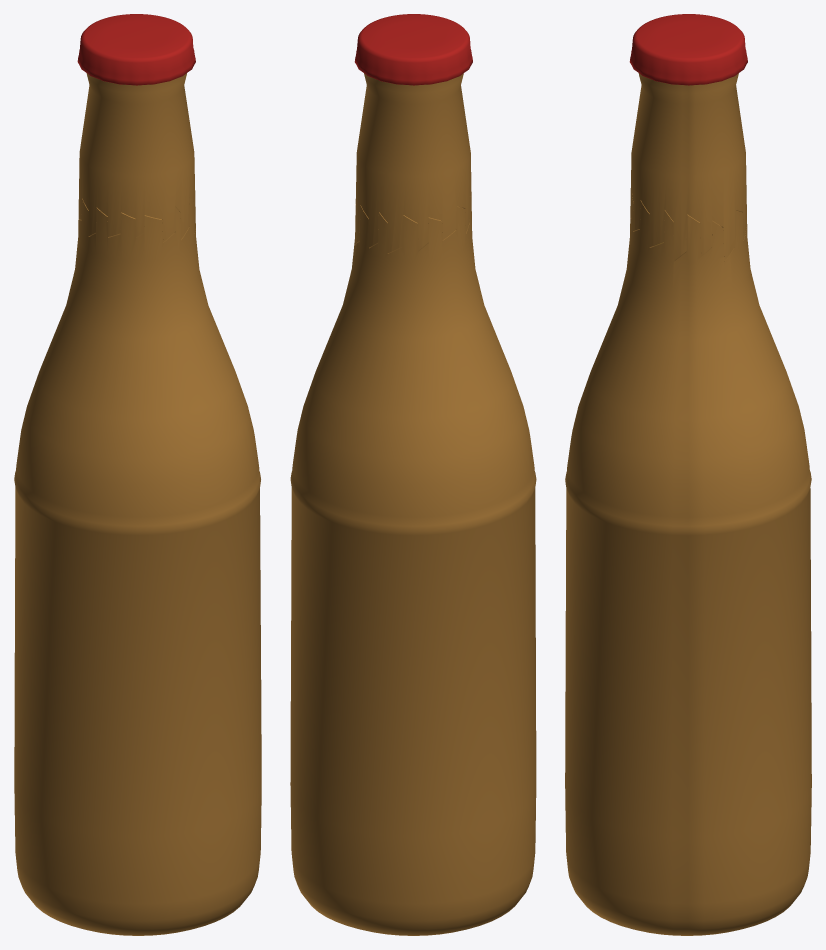
The model's file is bottle_longneck_broken.glb.
3 views of the same model, side by side, from view 1: azimuth 30°, elevation 25°; view 2: azimuth 150°, elevation 25°; view 3: azimuth 270°, elevation 25° (orthographic).
Visible parts, largest first — view 1: Glass.001, Neck, Cap; view 2: Glass.001, Neck, Cap; view 3: Glass.001, Neck, Cap.
Boxes of the visible parts, left/top/right/bottom form: Glass.001: left=14, top=198, right=261, bottom=935; Neck: left=78, top=73, right=195, bottom=241; Cap: left=77, top=14, right=195, bottom=85; Glass.001: left=290, top=196, right=536, bottom=935; Neck: left=355, top=73, right=471, bottom=252; Cap: left=354, top=14, right=472, bottom=85; Glass.001: left=565, top=194, right=811, bottom=935; Neck: left=630, top=73, right=746, bottom=261; Cap: left=629, top=14, right=747, bottom=85.
Bounding box in the file's own units: 0.0627 × 0.2403 × 0.0627.
